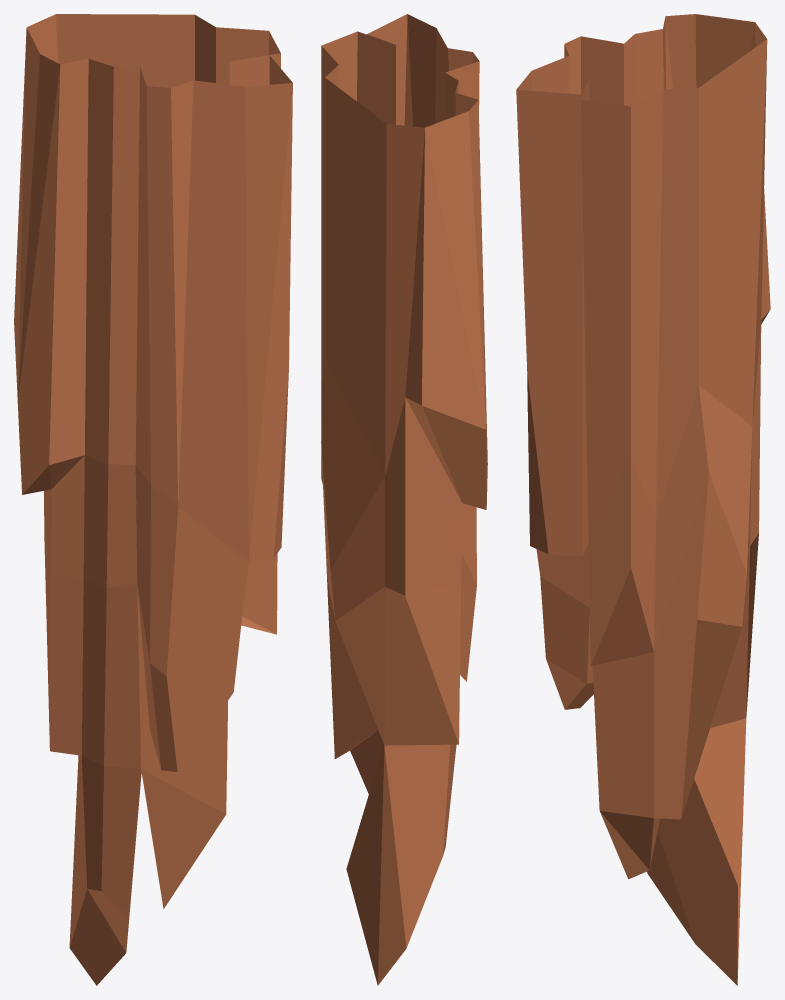
Rendered from Stalactite_2.fbx.
3 renders of one model, left to right at view 1: azimuth 30°, elevation 25°; view 2: azimuth 150°, elevation 25°; view 3: azimuth 270°, elevation 25°, orthographic. The views are drawn at different scales.
Parts seen in each view (by area): view 1: Stalactite_2; view 2: Stalactite_2; view 3: Stalactite_2.
Part boxes in pixels (x1,y1,x2,y2): Stalactite_2: [14, 14, 292, 985]; Stalactite_2: [321, 14, 487, 985]; Stalactite_2: [516, 14, 770, 985].
Size of the model in its own units: 204 by 870 by 214.
